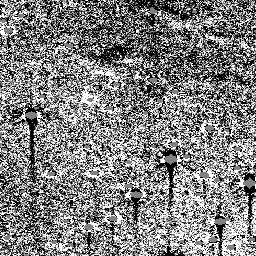LE: (77, 50, 132, 87), (164, 8, 220, 44)
